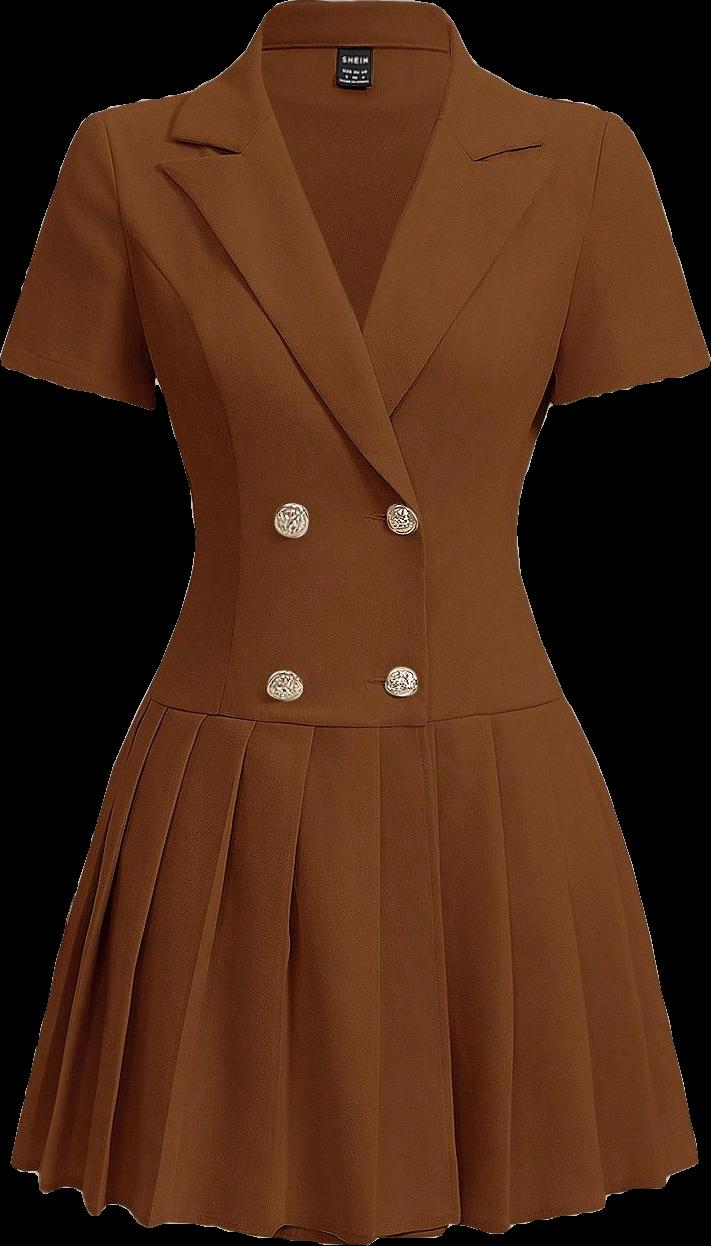Bodice: (100, 0, 614, 728)
Hemline: (2, 1152, 708, 1245)
Neckline: (253, 13, 460, 353)
Skirt: (11, 699, 697, 1243)
Sleeve: (0, 112, 158, 409), (553, 116, 710, 404)
Sleeveline: (542, 113, 622, 409), (93, 106, 171, 396)
Waistline: (137, 690, 568, 737)
